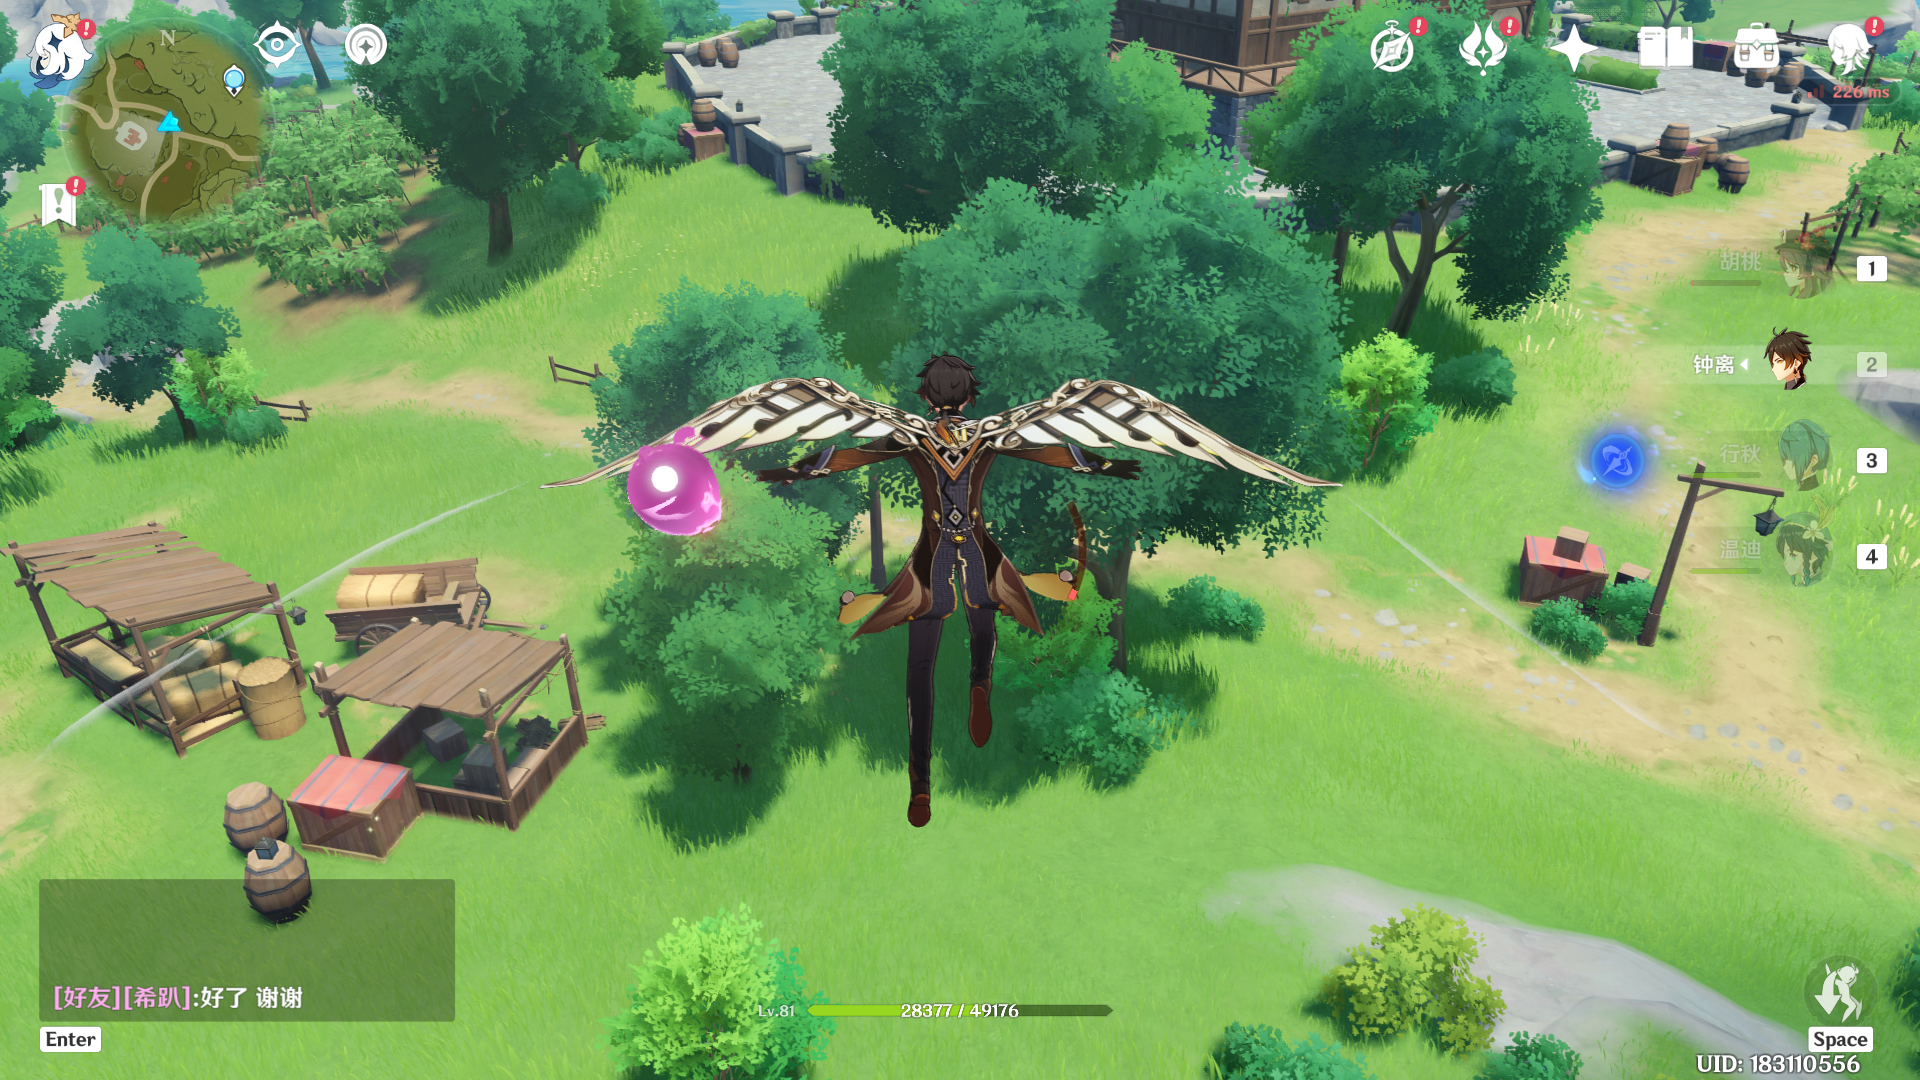character: (757, 310, 1151, 860)
